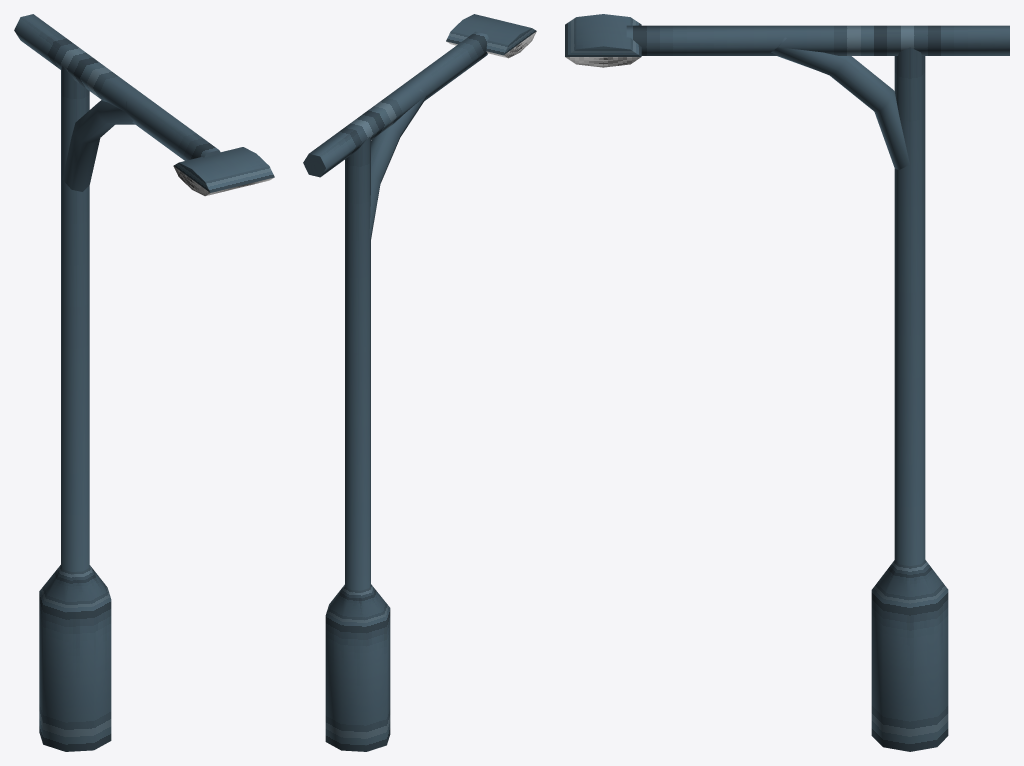
Rendered from obj_0401_street_lamp.obj.
3 renders of one model, left to right at view 1: azimuth 30°, elevation 25°; view 2: azimuth 150°, elevation 25°; view 3: azimuth 270°, elevation 25°, orthographic. The views are drawn at different scales.
Visible parts, largest first — view 1: 2, object 1; view 2: 2; view 3: 2.
Boxes of the visible parts, left/top/right/bottom form: 2: left=14, top=14, right=274, bottom=751; object 1: left=173, top=166, right=273, bottom=196; 2: left=303, top=14, right=536, bottom=751; 2: left=565, top=14, right=1009, bottom=751.
Size of the model in its own units: 4.5 by 45.78 by 26.11.
Materials: 2 (2 with a texture image).
